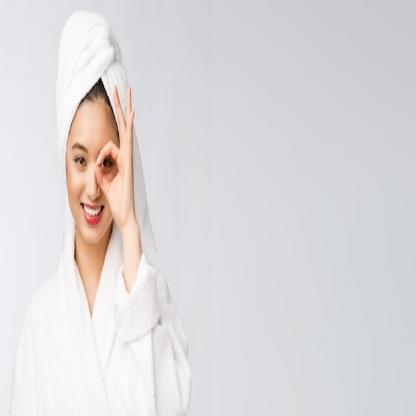ok: (94, 82, 139, 226)
